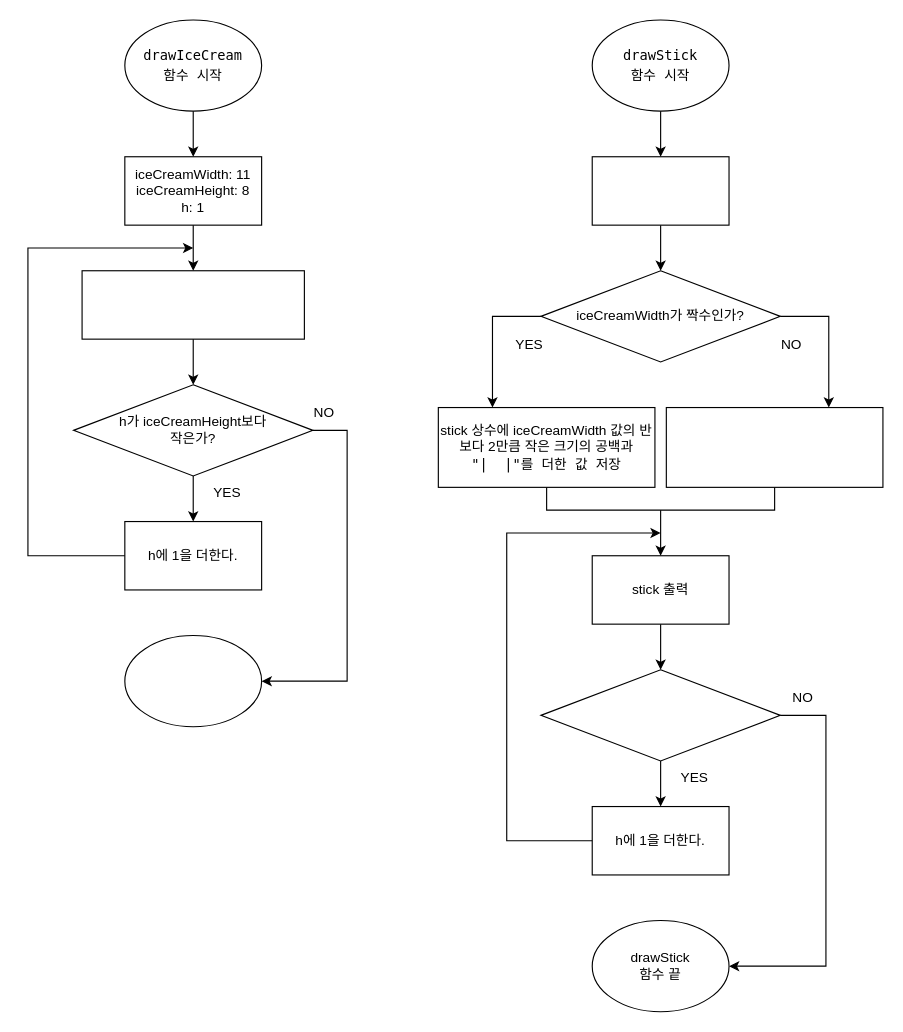
Some shapes in this 903 by 1032 pixel diagram are drawn without their labels. The centre of each missing label's shape, as x and y in pixels:
"*"을 iceCreamWidth개 만큼 출력: (192,304)
drawIceCream 함수 끝: (193,680)
h가 stickHeight보다 작은가?: (660,715)
iceCreamWidth: 11 stickHeight: 4 h: 1: (660,190)
stick 상수에 iceCreamWidth 값의 반보다 1만큼 작은 크기의 공백과 "| |"를 더한 값 저장: (774,446)
